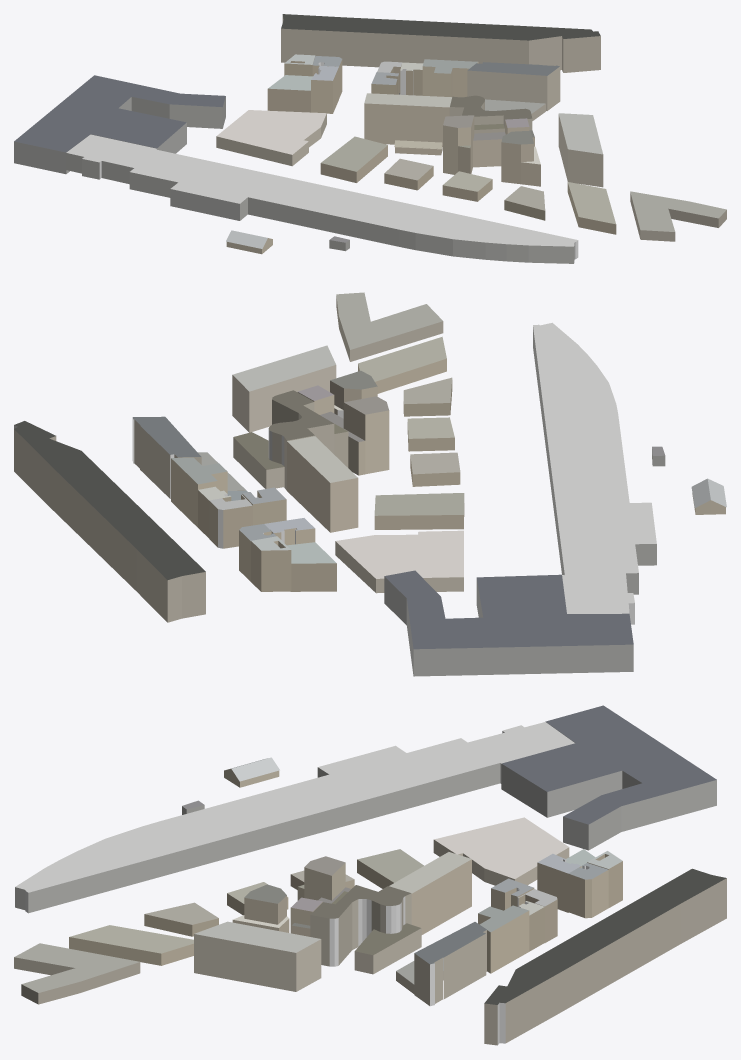
The picture shows the model from 3 angles, top to bottom: view 1: azimuth 30°, elevation 25°; view 2: azimuth 150°, elevation 25°; view 3: azimuth 270°, elevation 25°; orthographic projection. The views are drawn at different scales.
Parts seen in each view (by area): view 1: tuile; view 2: tuile; view 3: tuile.
Part boxes in pixels (<box>): tuile: <box>14,14,726,263</box>; tuile: <box>14,292,726,676</box>; tuile: <box>14,705,726,1045</box>.
Bounding box in the file's own units: 330 × 30.74 × 318.
